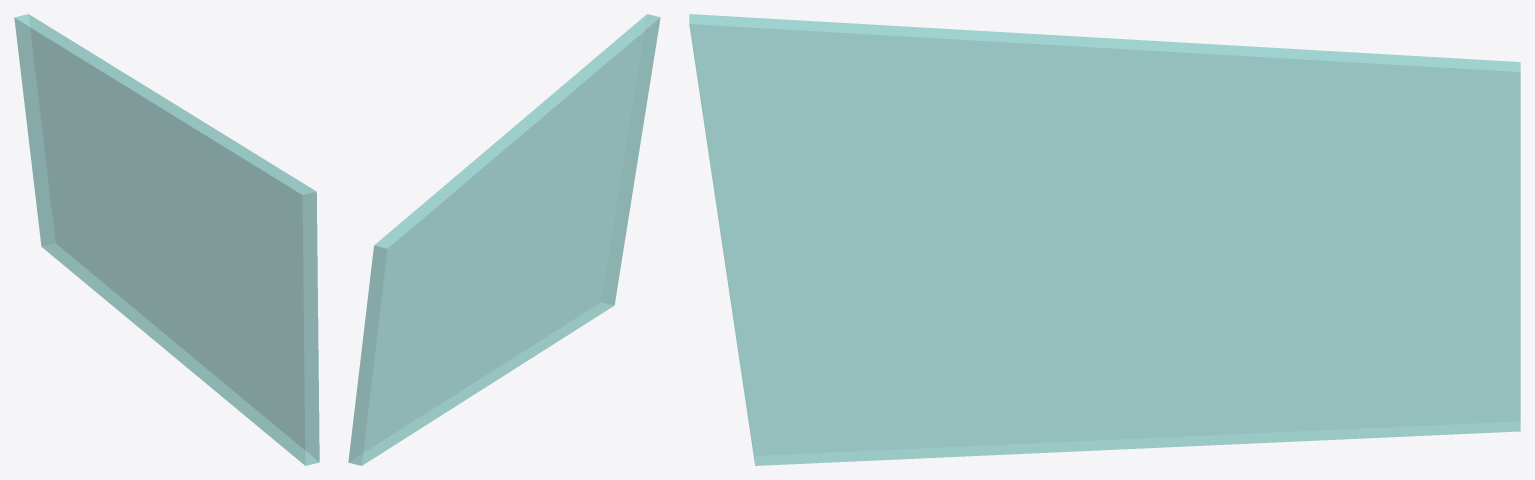
Rendered from doorleftwindow.fbx.
3 renders of one model, left to right at view 1: azimuth 30°, elevation 25°; view 2: azimuth 150°, elevation 25°; view 3: azimuth 270°, elevation 25°, orthographic. The views are drawn at different scales.
Parts seen in each view (by area): view 1: Cube.059; view 2: Cube.059; view 3: Cube.059.
Part boxes in pixels (bbox=[...]): Cube.059: bbox=[14, 14, 319, 465]; Cube.059: bbox=[348, 14, 660, 465]; Cube.059: bbox=[689, 14, 1520, 465].
Bounding box in the file's own units: 4.8 × 32.53 × 57.85.
